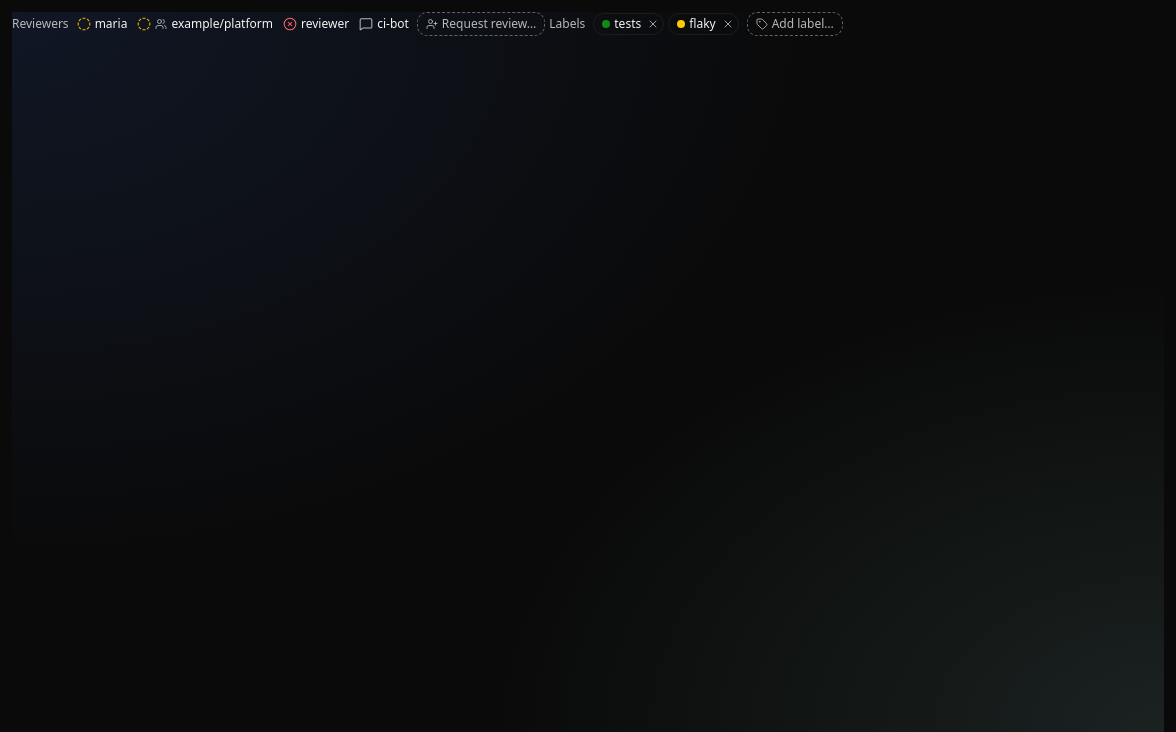
Test case: PrPeople › keeps the form open and says why when GitHub refuses
Step 1. Click the button "Request review…" → [481, 24], box [417, 12, 545, 36]
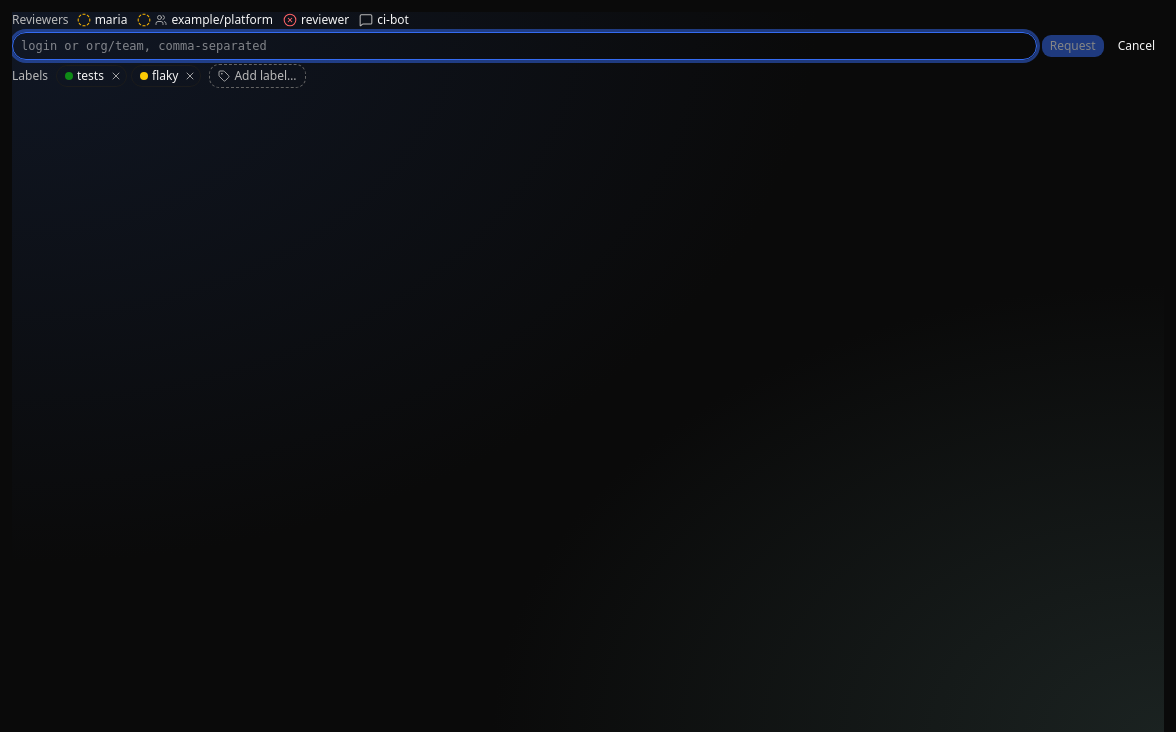
Step 2. Type "ghost" into the field named "Logins or teams to ask" → [524, 46], box [12, 32, 1037, 60]
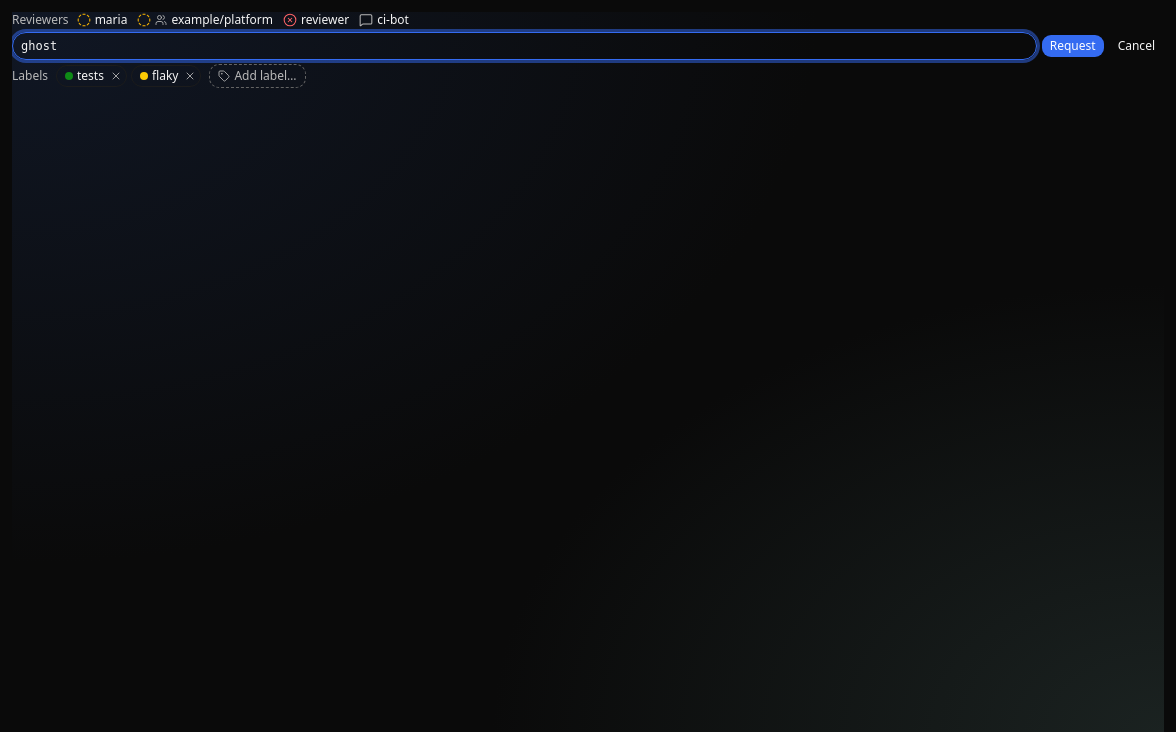
Step 3. Click the button "Request" → [1073, 46], box [1041, 34, 1105, 58]
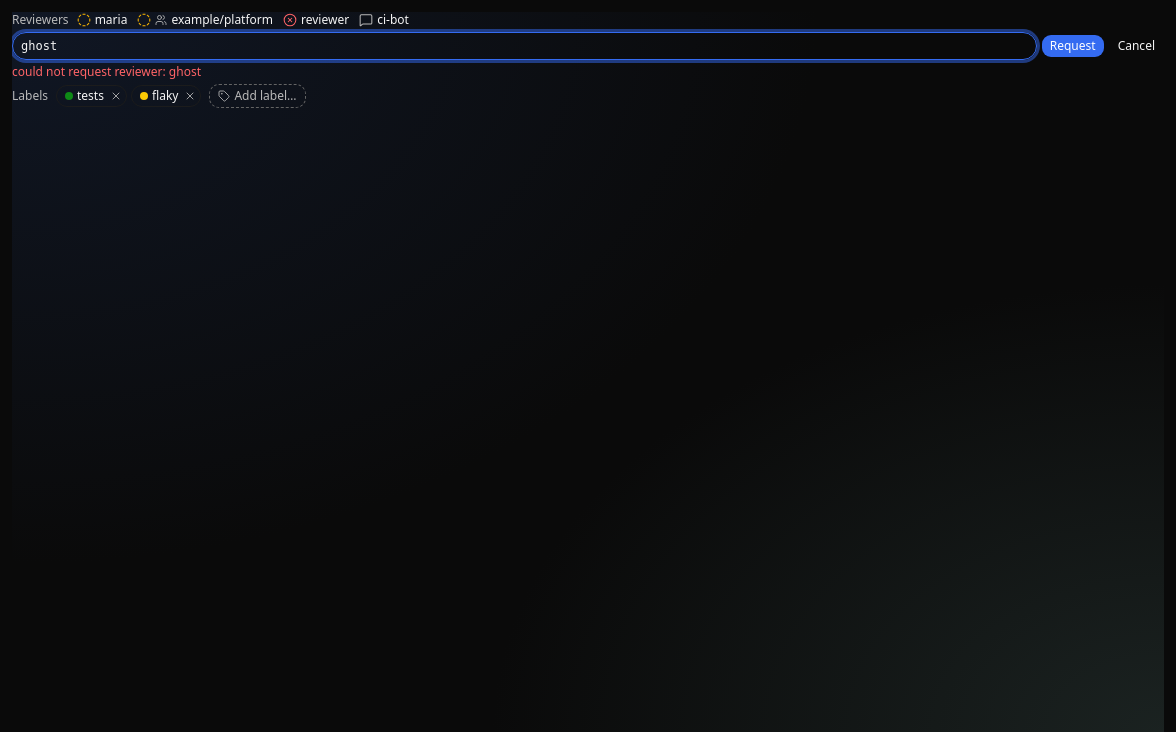
Check: the message shows "could not request reviewer", box [12, 63, 201, 80]
